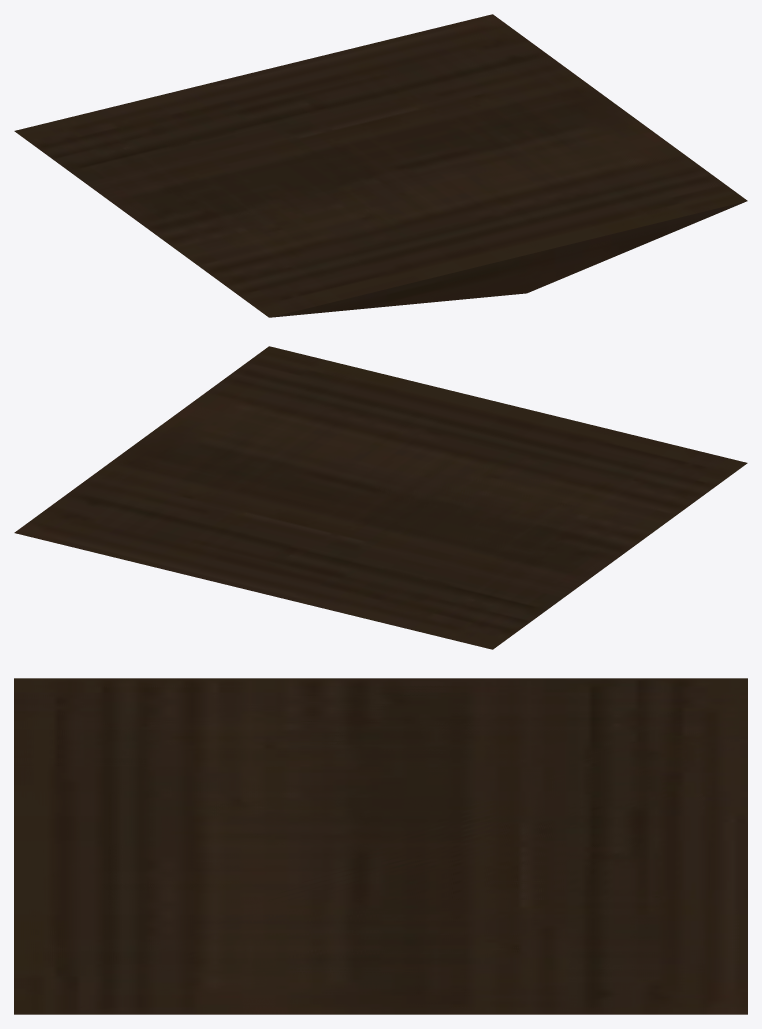
Rendered from link_8__top_panel-26.glb.
3 renders of one model, top to bottom at view 1: azimuth 30°, elevation 25°; view 2: azimuth 150°, elevation 25°; view 3: azimuth 270°, elevation 25°, orthographic. The views are drawn at different scales.
Visible parts, largest first — view 1: world; view 2: world; view 3: world.
Boxes of the visible parts, box(x1,y1,x2,y2) form: world: box(14, 14, 747, 317); world: box(14, 346, 747, 649); world: box(14, 678, 747, 1014).
Size of the model in its own units: 0.1365 by 0.0105 by 0.126.
Materials: 1 (1 with a texture image).
